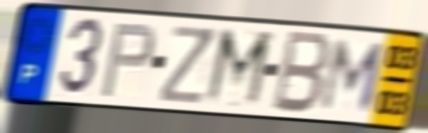3: (55, 15, 105, 101)
B: (268, 27, 336, 118)
M: (201, 25, 277, 112), (316, 37, 390, 113)
P: (97, 21, 158, 100)
Z: (157, 23, 218, 107)
